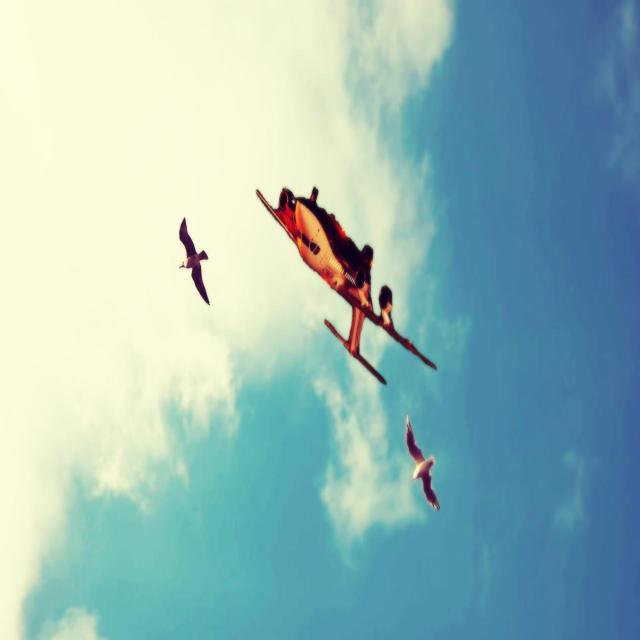airplane: (255, 184, 437, 385)
